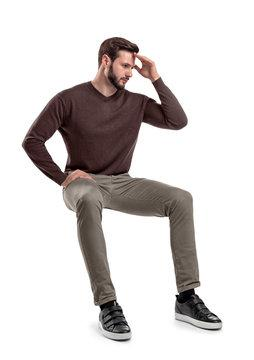sweater: (21, 76, 189, 185)
trousers: (63, 170, 202, 307)
